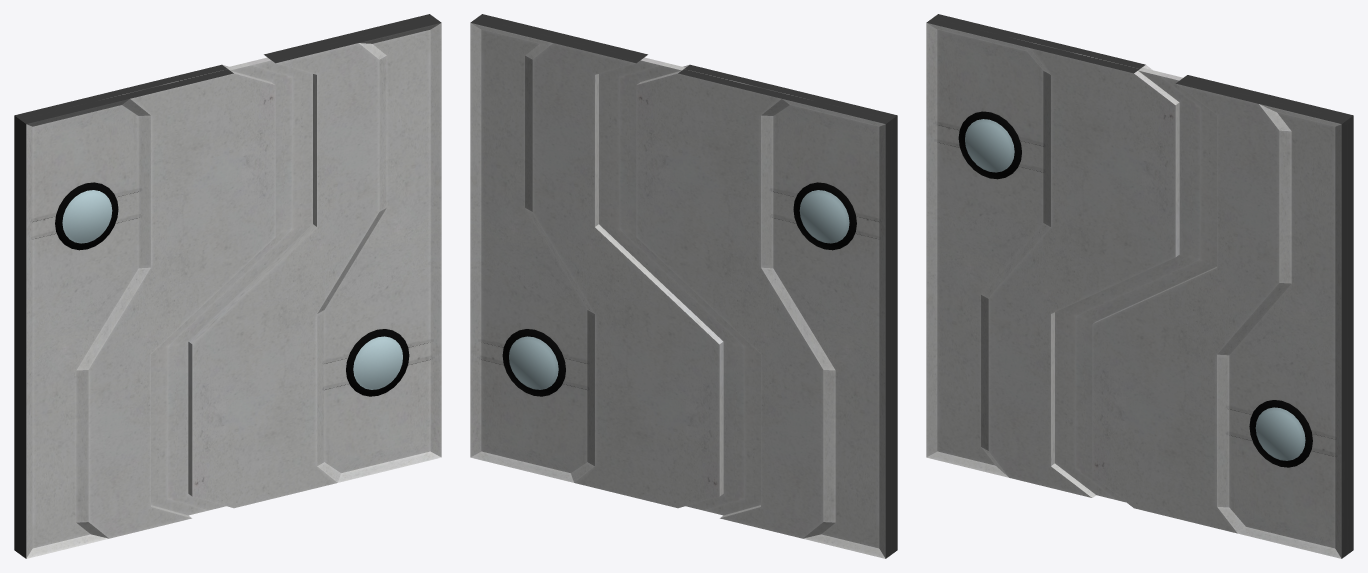
File: door2.fbx
3 views of the same model, side by side, from view 1: azimuth 30°, elevation 25°; view 2: azimuth 150°, elevation 25°; view 3: azimuth 330°, elevation 25° (orthographic).
Visible parts, largest first — view 1: Cube_002, Cube_000; view 2: Cube_002, Cube_000; view 3: Cube_000, Cube_002.
Part boxes in pixels (x1=…): Cube_002: x1=14, y1=62, x2=292, y2=558; Cube_000: x1=167, y1=14, x2=441, y2=510; Cube_002: x1=619, y1=62, x2=897, y2=558; Cube_000: x1=470, y1=14, x2=744, y2=510; Cube_000: x1=1075, y1=73, x2=1353, y2=558; Cube_002: x1=926, y1=14, x2=1200, y2=499.
Bounding box in the file's own units: 2 × 2 × 0.1003.
